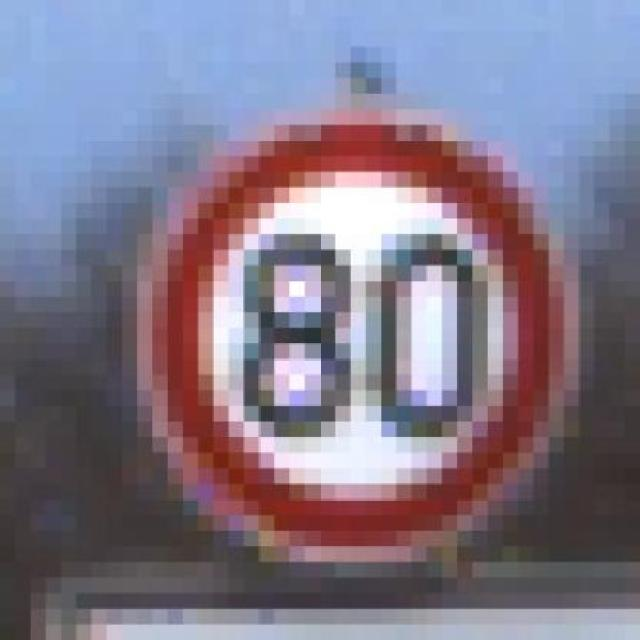forb_speed_over_80: (162, 121, 556, 555)
